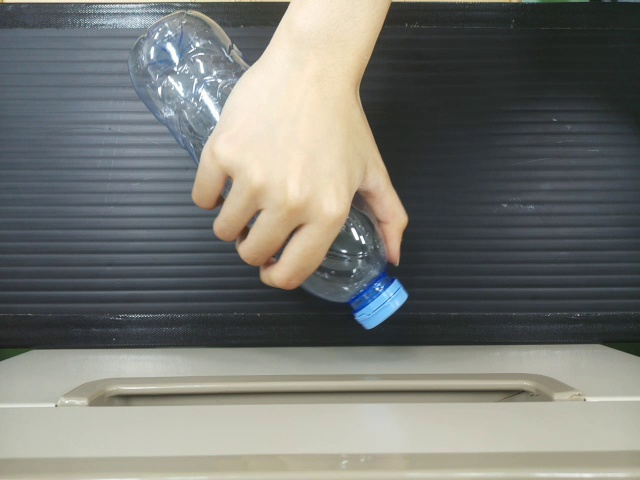bottle: (115, 1, 247, 147), (300, 201, 416, 340)
